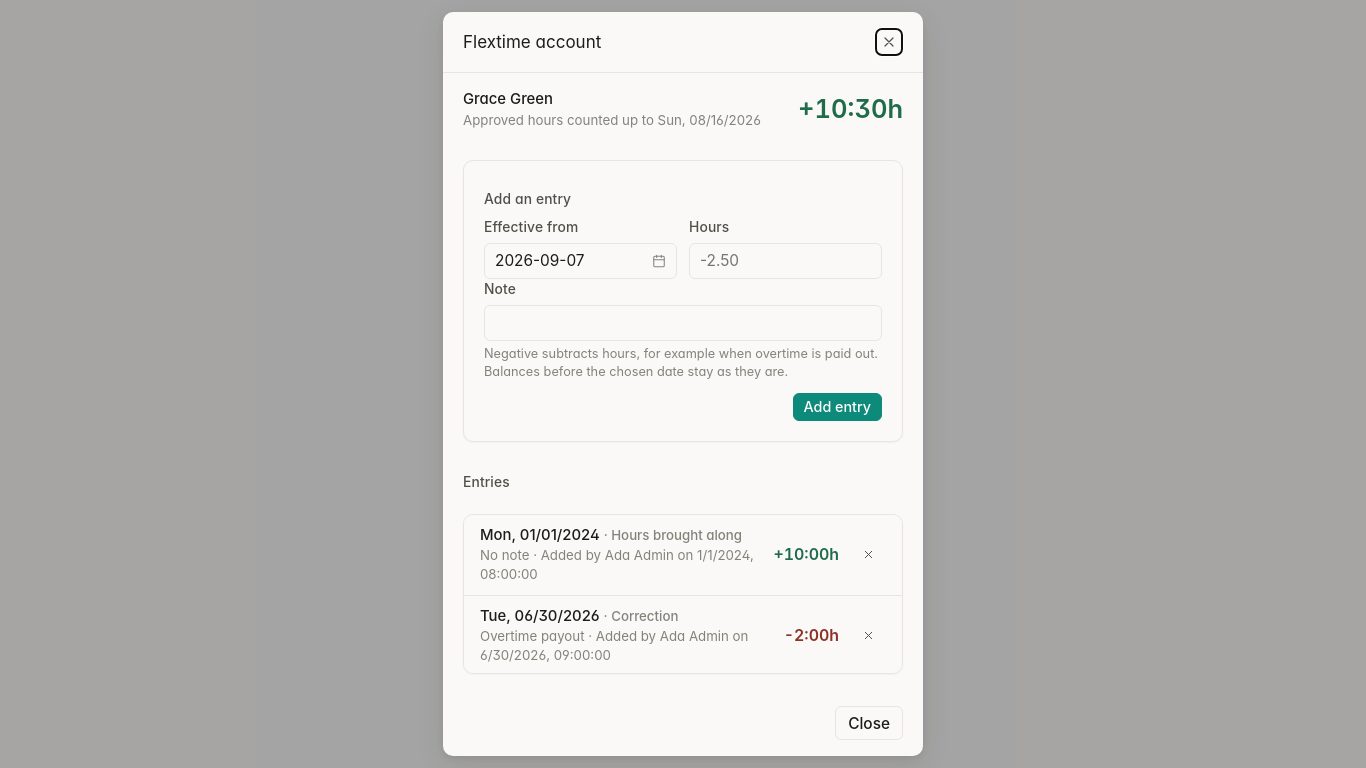
Test case: FlextimeAccountDialog › refuses to book nothing
What coordinates should you click on to do the following:
click the button "Add entry"
I would click on:
 (837, 406)
Its box is [792, 392, 882, 420].
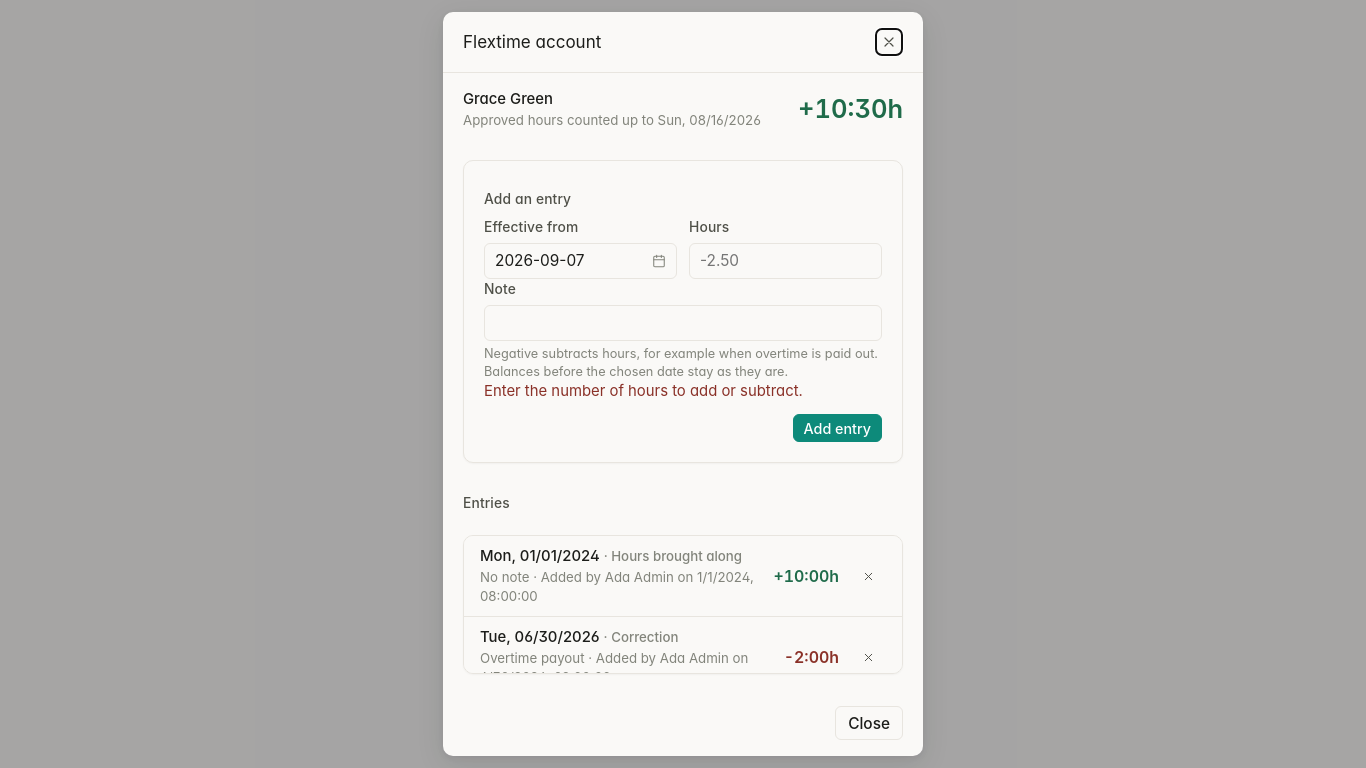
Expected: the text "Enter the number of hours to add or subtract" is shown, [484, 382, 803, 400]
